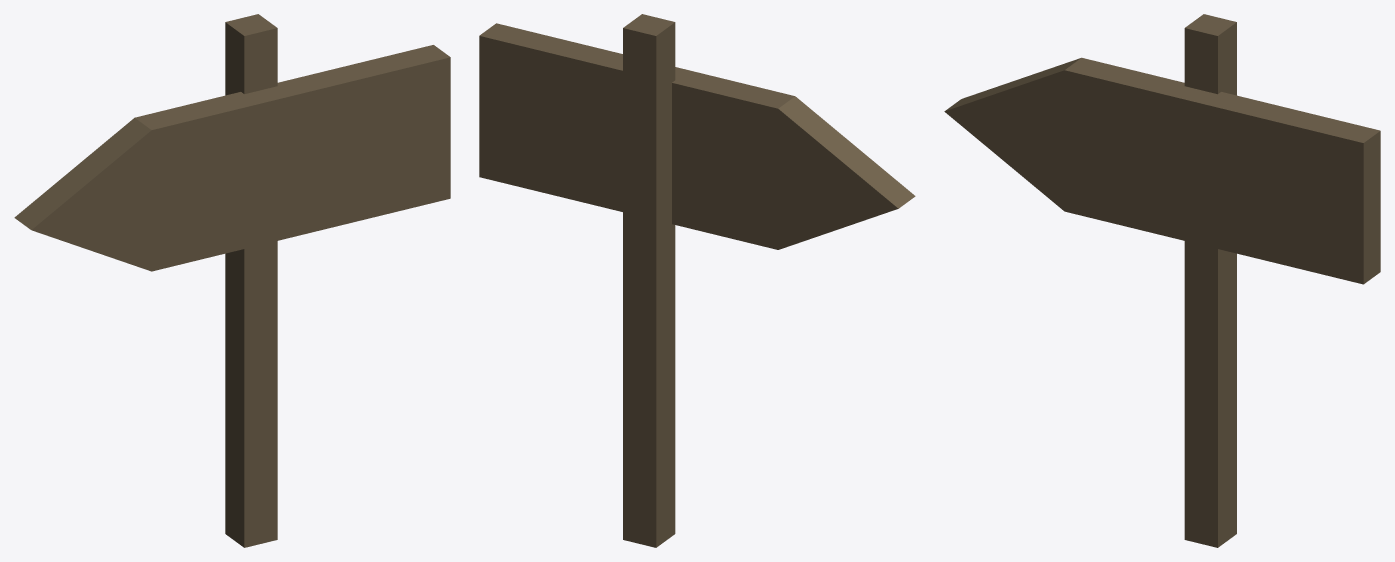
Rendered from SignArrow.fbx.
3 renders of one model, left to right at view 1: azimuth 30°, elevation 25°; view 2: azimuth 150°, elevation 25°; view 3: azimuth 330°, elevation 25°, orthographic.
Parts seen in each view (by area): view 1: SignRectangular; view 2: SignRectangular; view 3: SignRectangular.
Part boxes in pixels (box(x1,y1,x2,y2)): SignRectangular: box(14, 14, 450, 547); SignRectangular: box(479, 14, 915, 547); SignRectangular: box(944, 14, 1380, 547).
Size of the model in its own units: 123 by 144 by 16.73.
